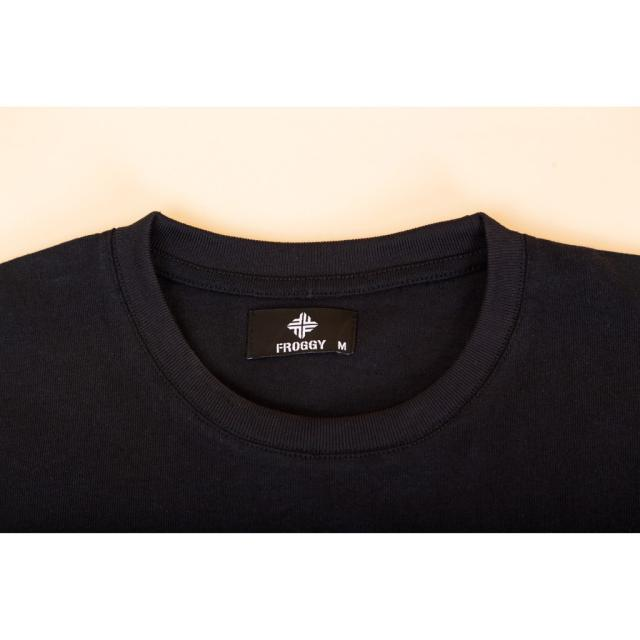Shirt: (1, 209, 640, 533)
